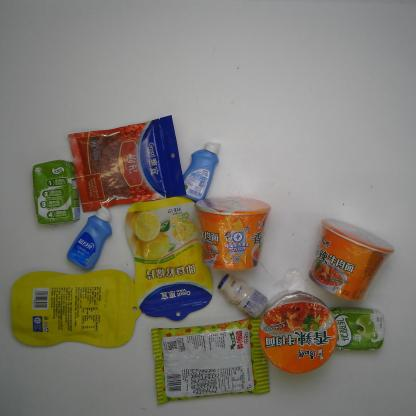Dried Fruit: (67, 111, 192, 214), (118, 195, 213, 324), (10, 269, 147, 348)
Instant Noodles: (309, 214, 396, 304), (258, 290, 340, 373), (194, 190, 274, 273)
Milk: (26, 159, 82, 226), (323, 303, 387, 354), (219, 272, 266, 316)
Personal Hygiene: (67, 207, 114, 269), (177, 139, 221, 205)
Puffed Food: (149, 319, 271, 407)
